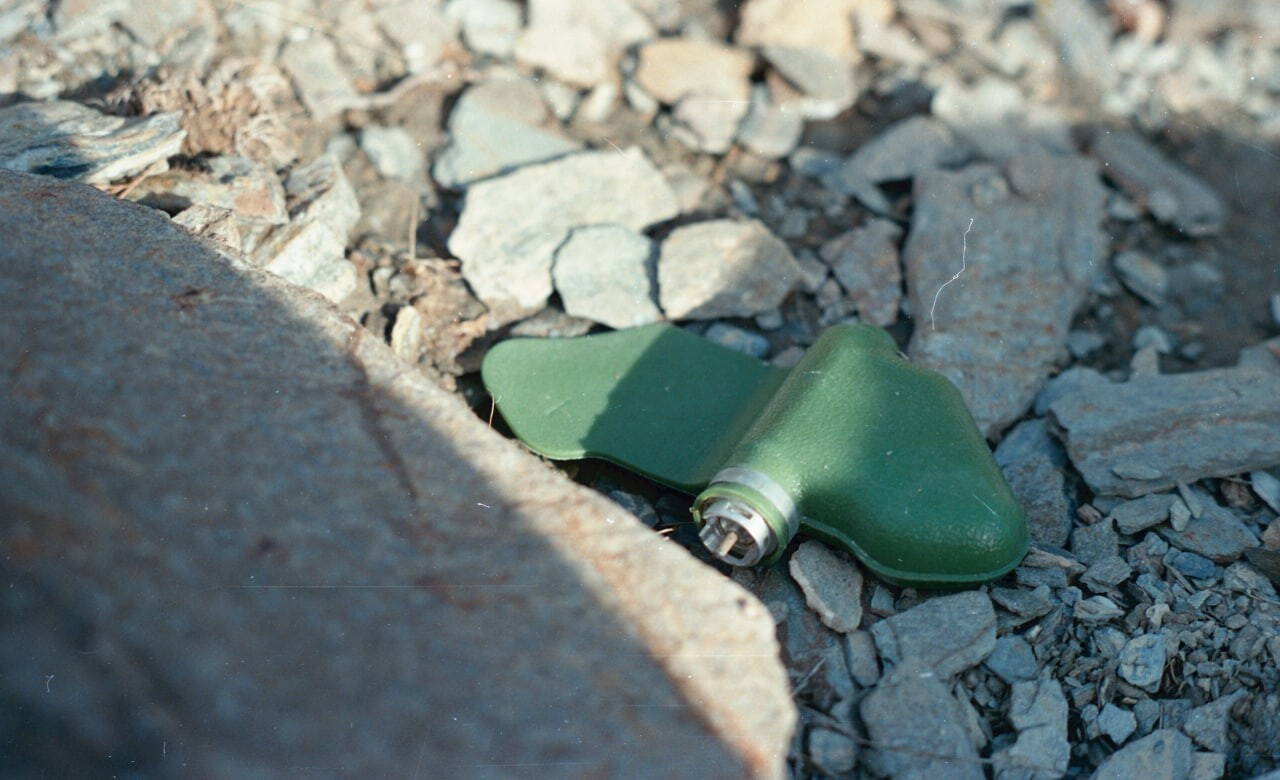butterfly: (464, 298, 1048, 606)
